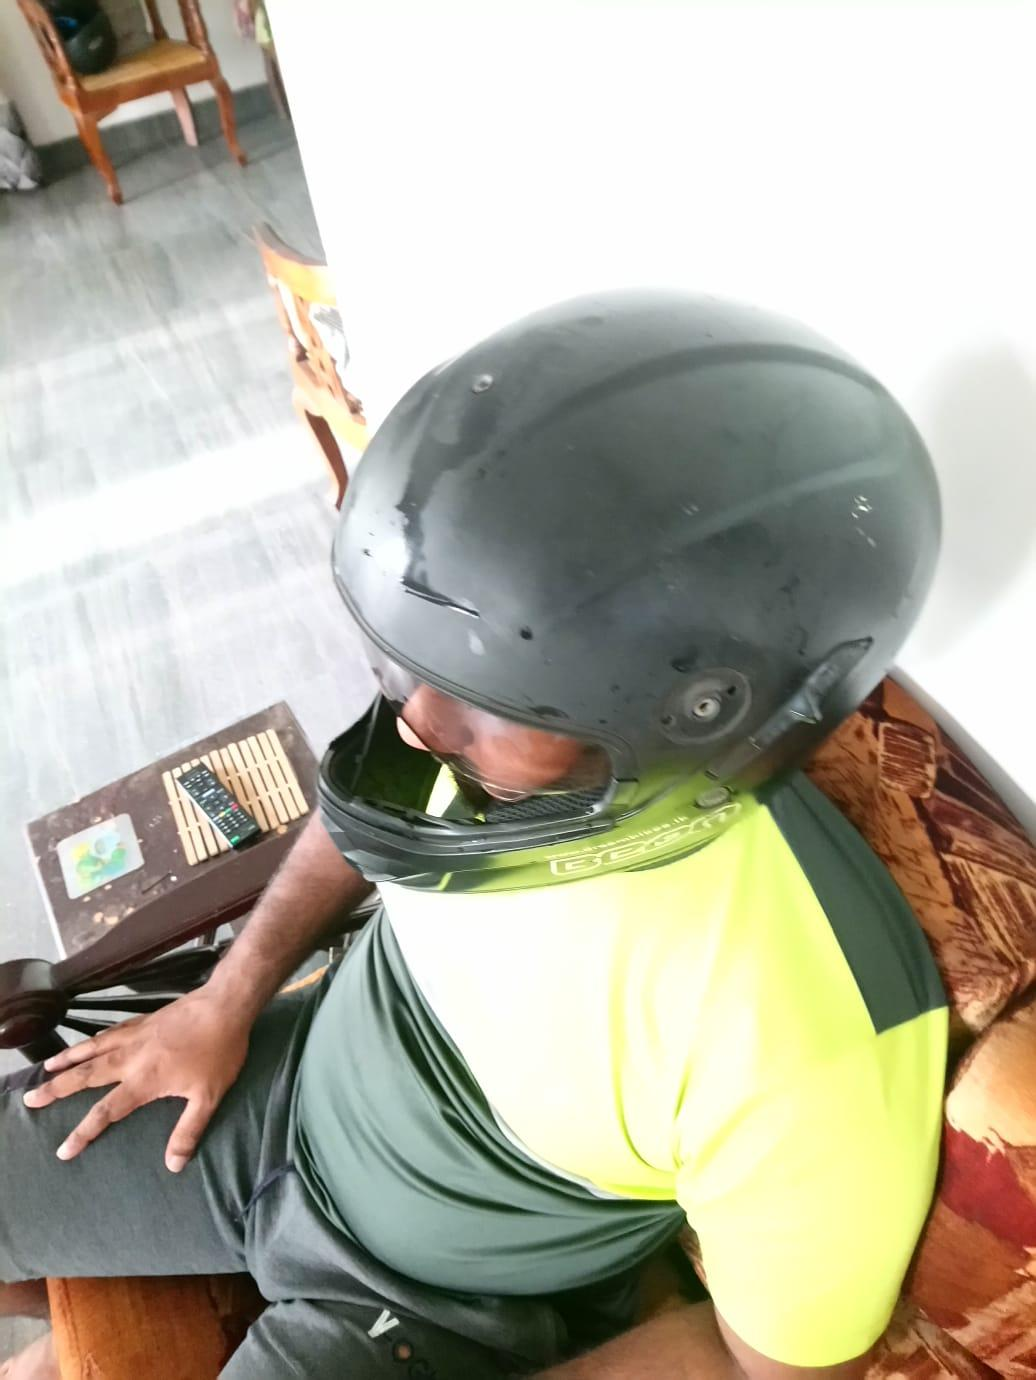helmet: (316, 285, 943, 898)
